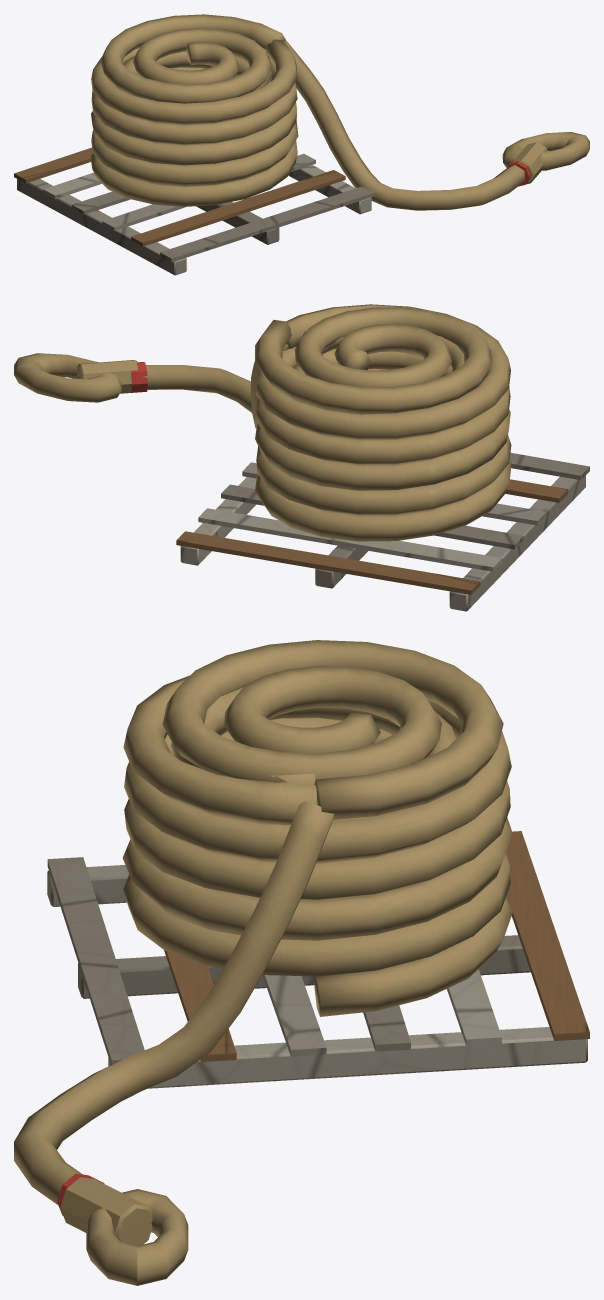
File: ship_rope_coil.glb
3 views of the same model, one above another, from view 1: azimuth 30°, elevation 25°; view 2: azimuth 150°, elevation 25°; view 3: azimuth 270°, elevation 25° (orthographic). The views are drawn at different scales.
Visible parts, largest first — view 1: ship_rope_coil; view 2: ship_rope_coil; view 3: ship_rope_coil.
Boxes of the visible parts, x1,y1,x2,y2 form: ship_rope_coil: [14, 14, 589, 275]; ship_rope_coil: [14, 304, 589, 611]; ship_rope_coil: [14, 640, 589, 1285].
Size of the model in its own units: 3.4 by 1.02 by 1.92.
10 materials, 10 textured.
